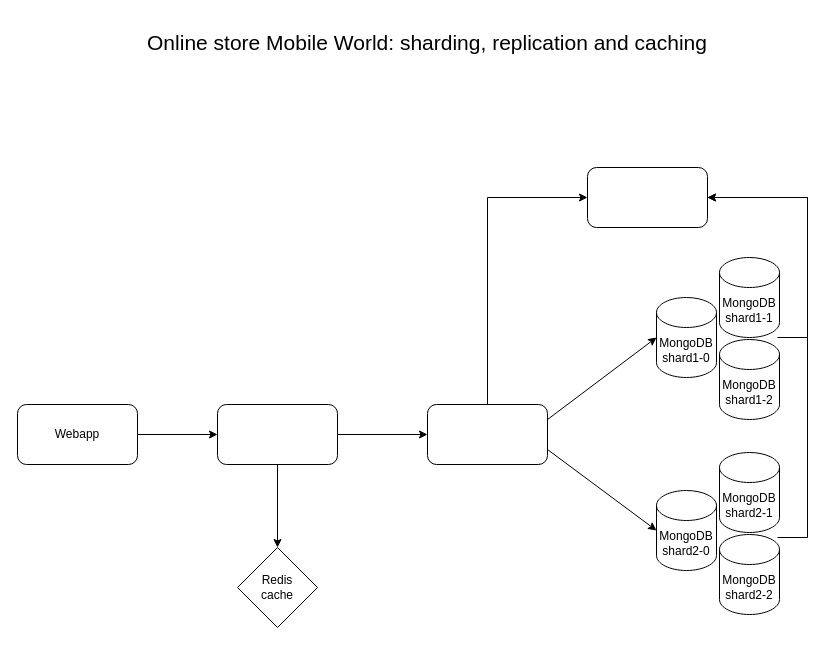
Some shapes in this 833 by 645 pixel diagram are drawn without their labels. Each missing label, with the centre of its shape:
"configSrv" belongs at point 647,197.
"Mongos routers" belongs at point 487,434.
"pymongo-api" belongs at point 277,434.
